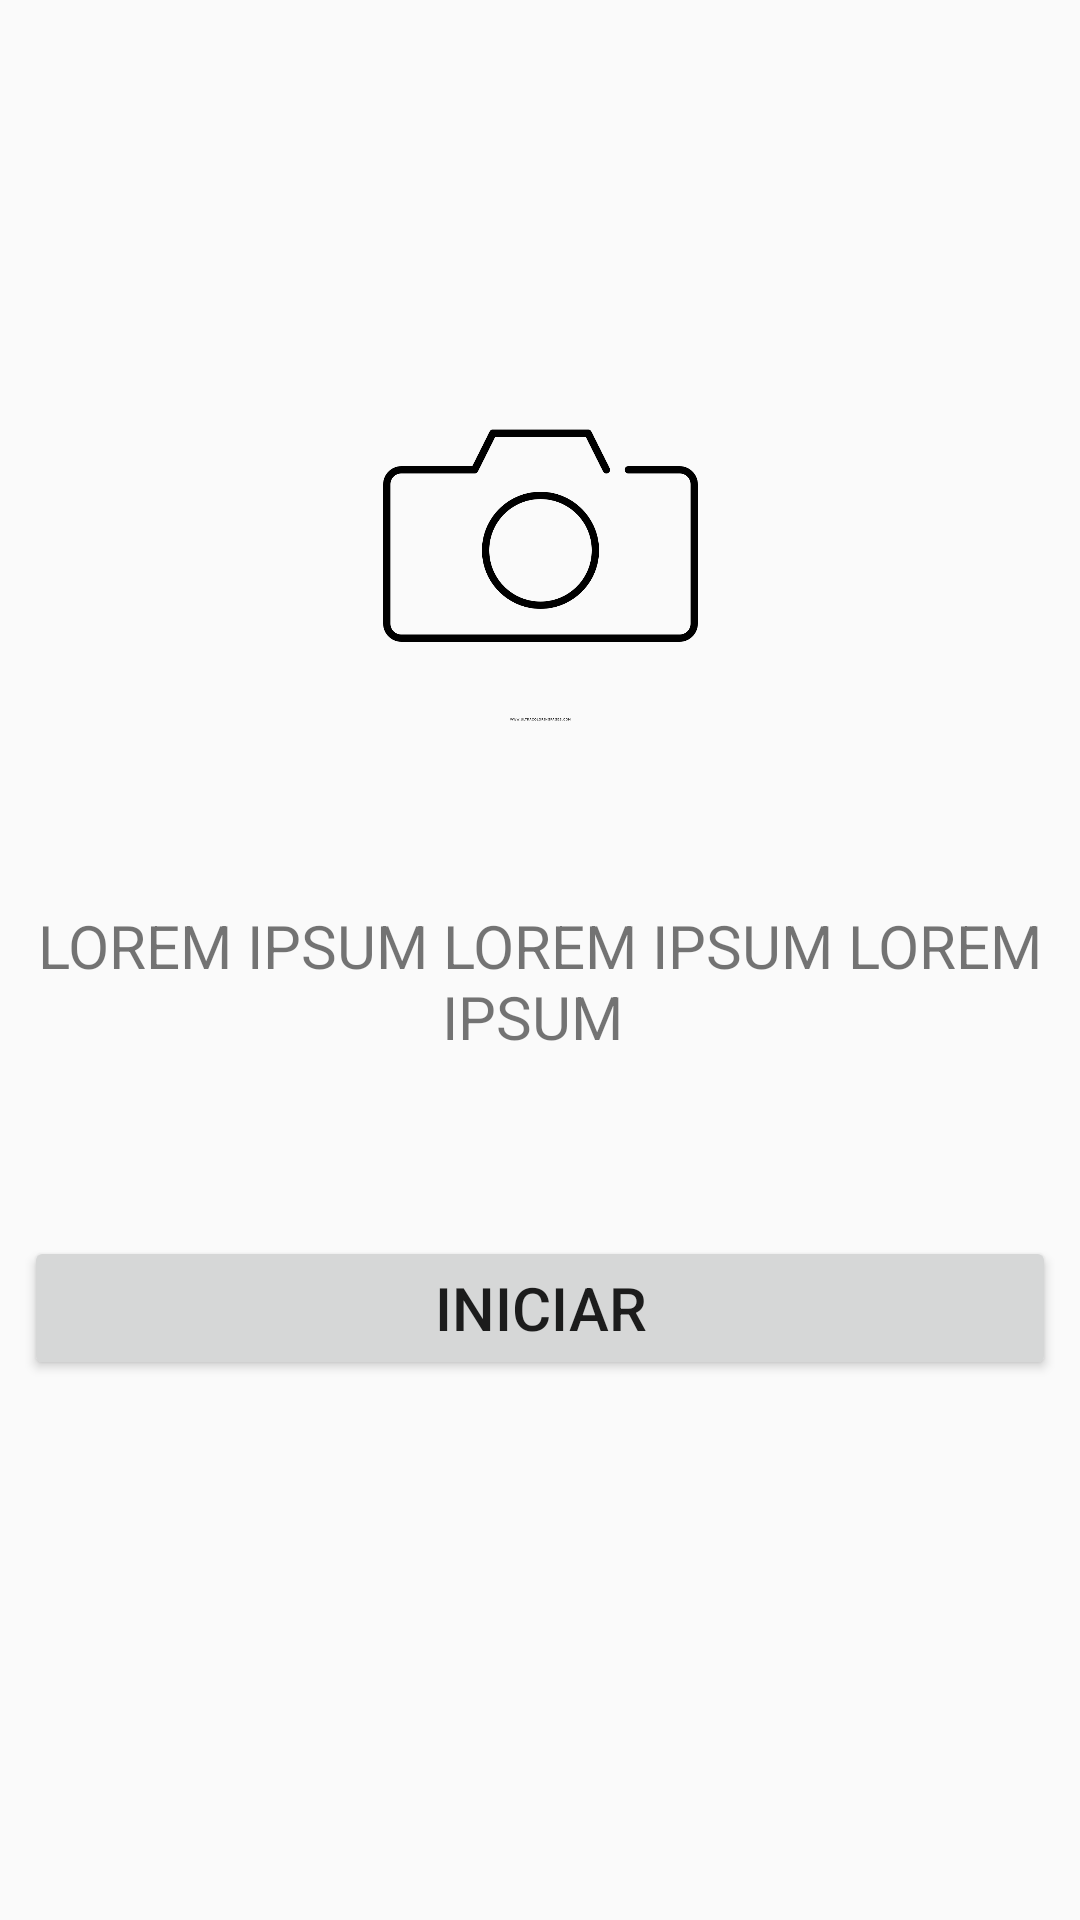

Screen size 1080 × 1920. Icon name, then its box in pixels as {"left": x1, "top": y1, "right": x2, "bottom": y2}:
camerasimples: {"left": 383, "top": 429, "right": 698, "bottom": 721}
